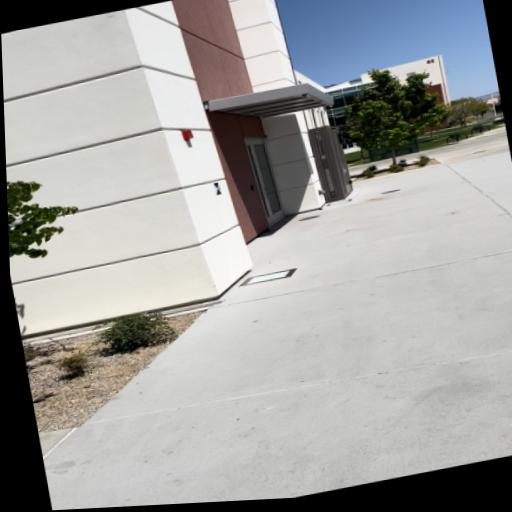target6: (212, 182, 223, 195)
